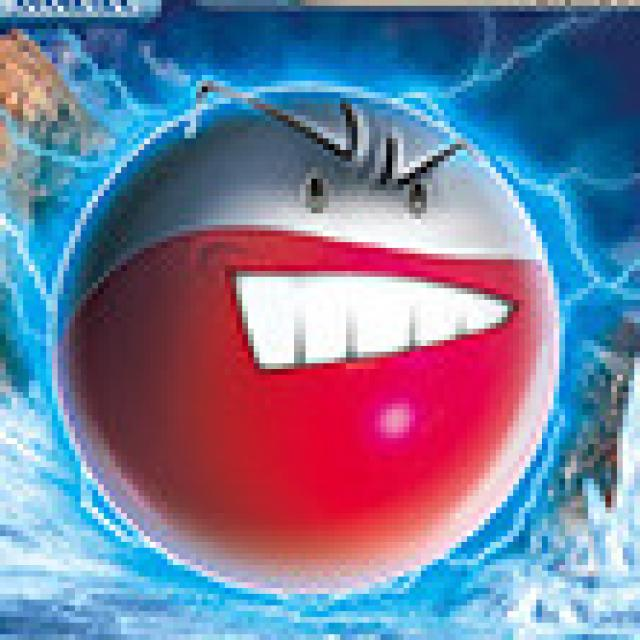Electrode: (41, 70, 560, 601)
